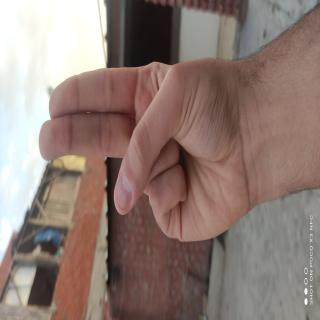TA: (31, 72, 123, 320)
